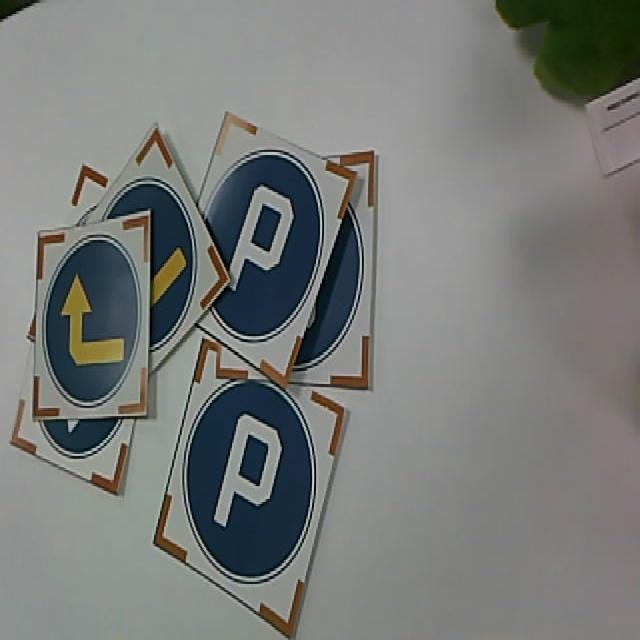parking: (181, 380, 317, 584), (200, 149, 325, 345)
turn: (41, 234, 140, 407)
